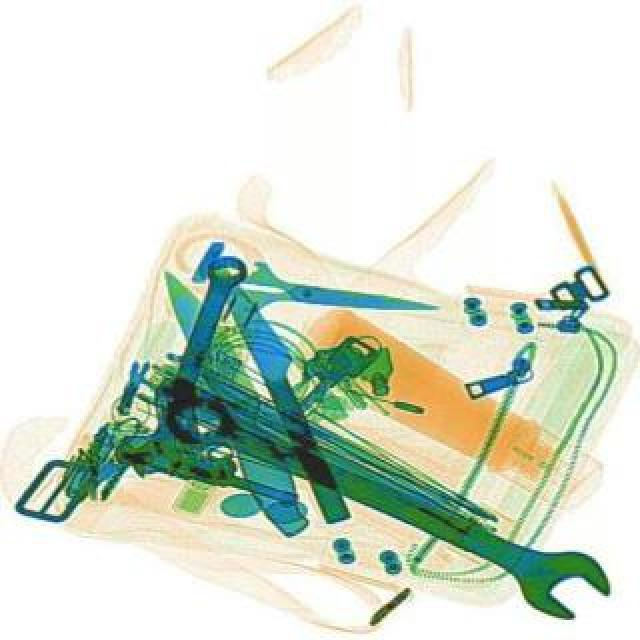gun: (108, 366, 324, 518)
knife: (148, 256, 316, 542), (212, 258, 356, 526), (232, 258, 440, 334)
scissors: (146, 374, 620, 632), (126, 248, 250, 484)
